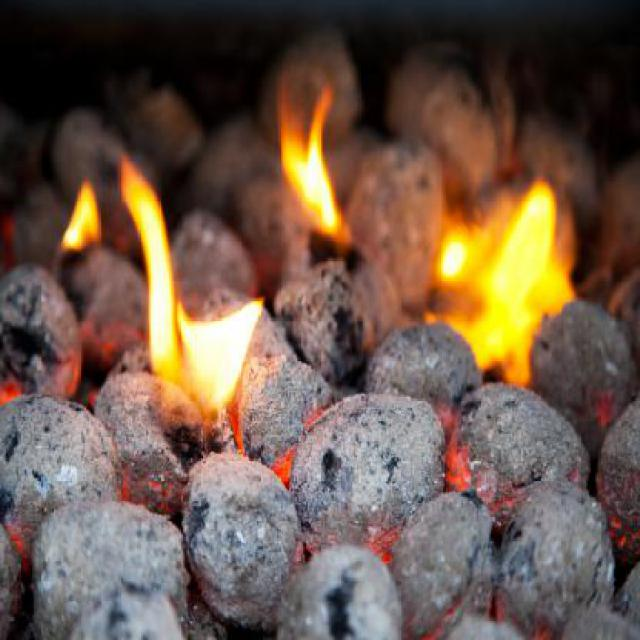fire: (107, 150, 272, 423)
